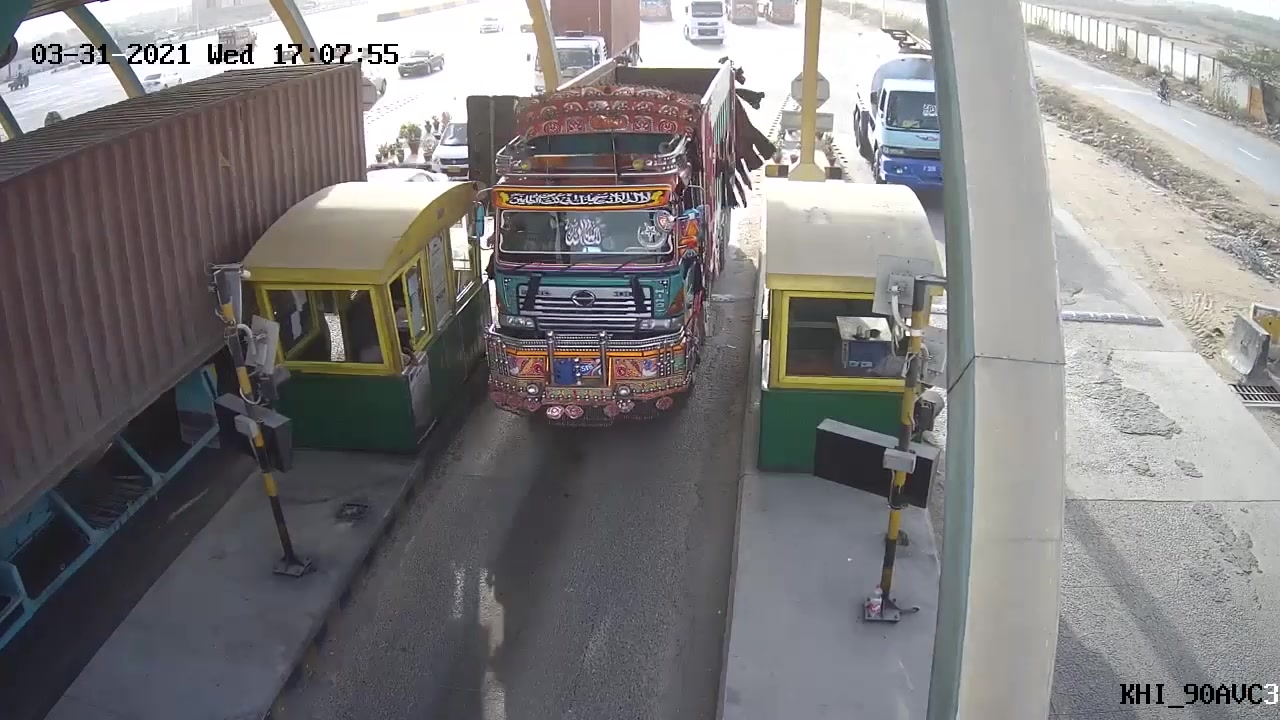F5: (474, 47, 751, 442)
